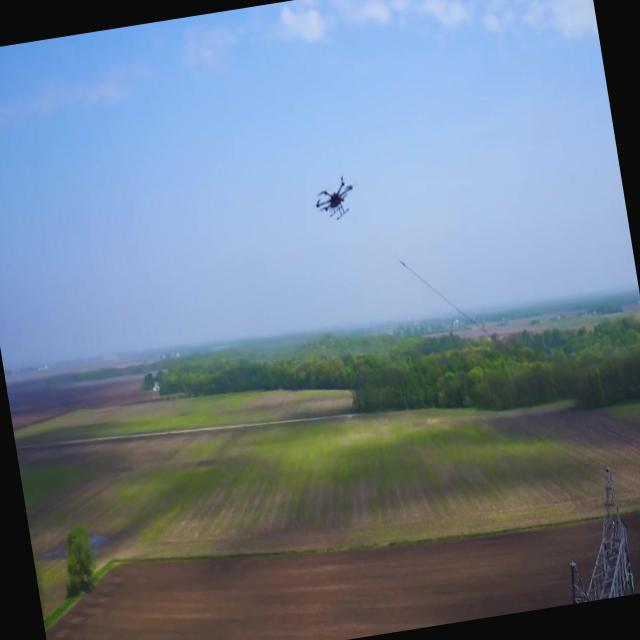drone: (310, 170, 361, 229)
